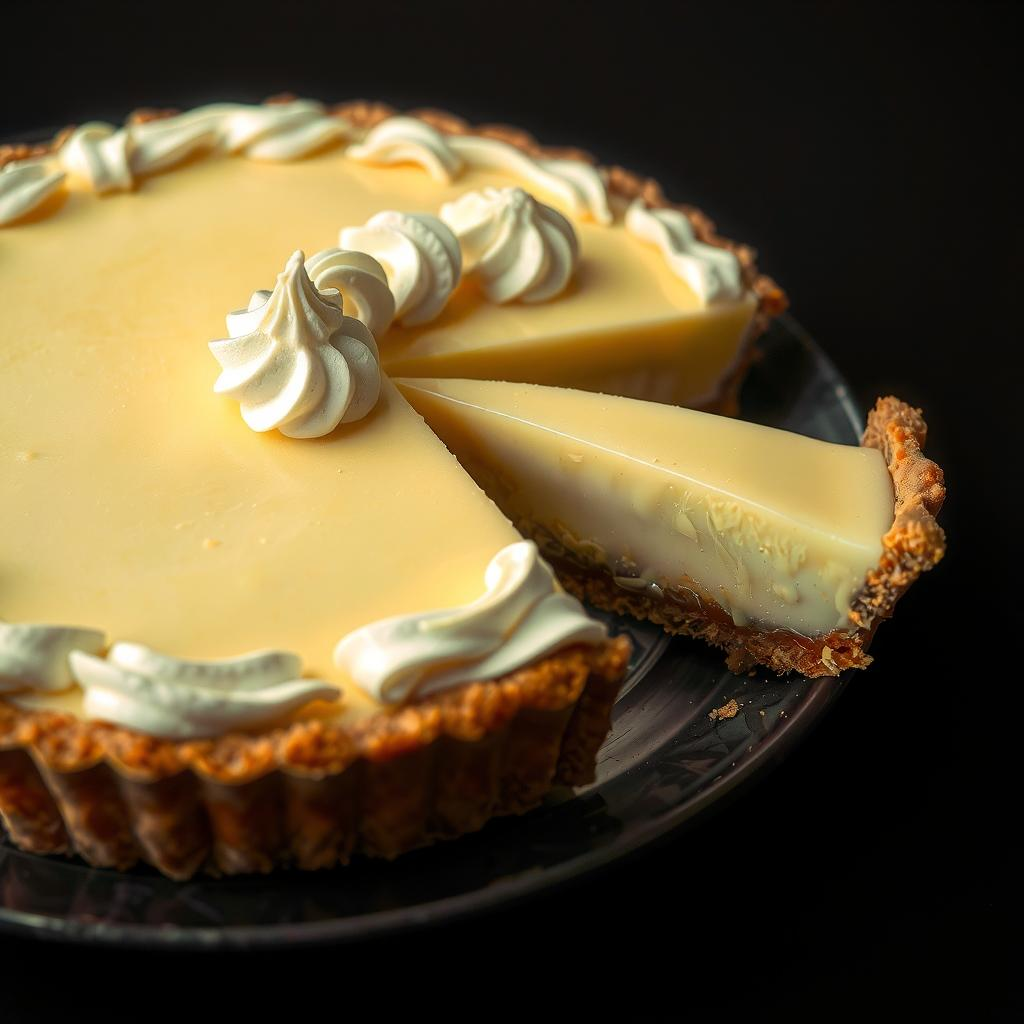pie: (0, 93, 954, 884)
